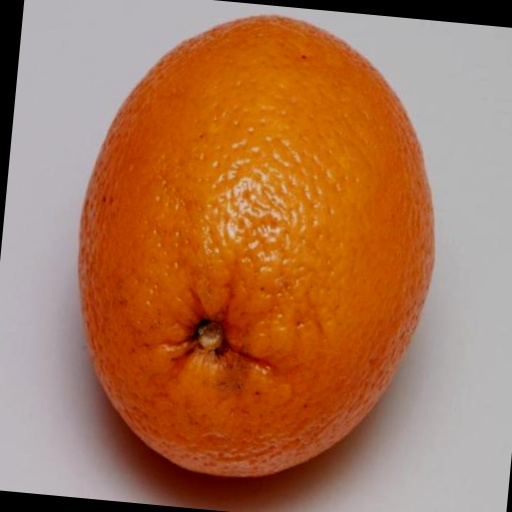fruit: (79, 17, 433, 476)
